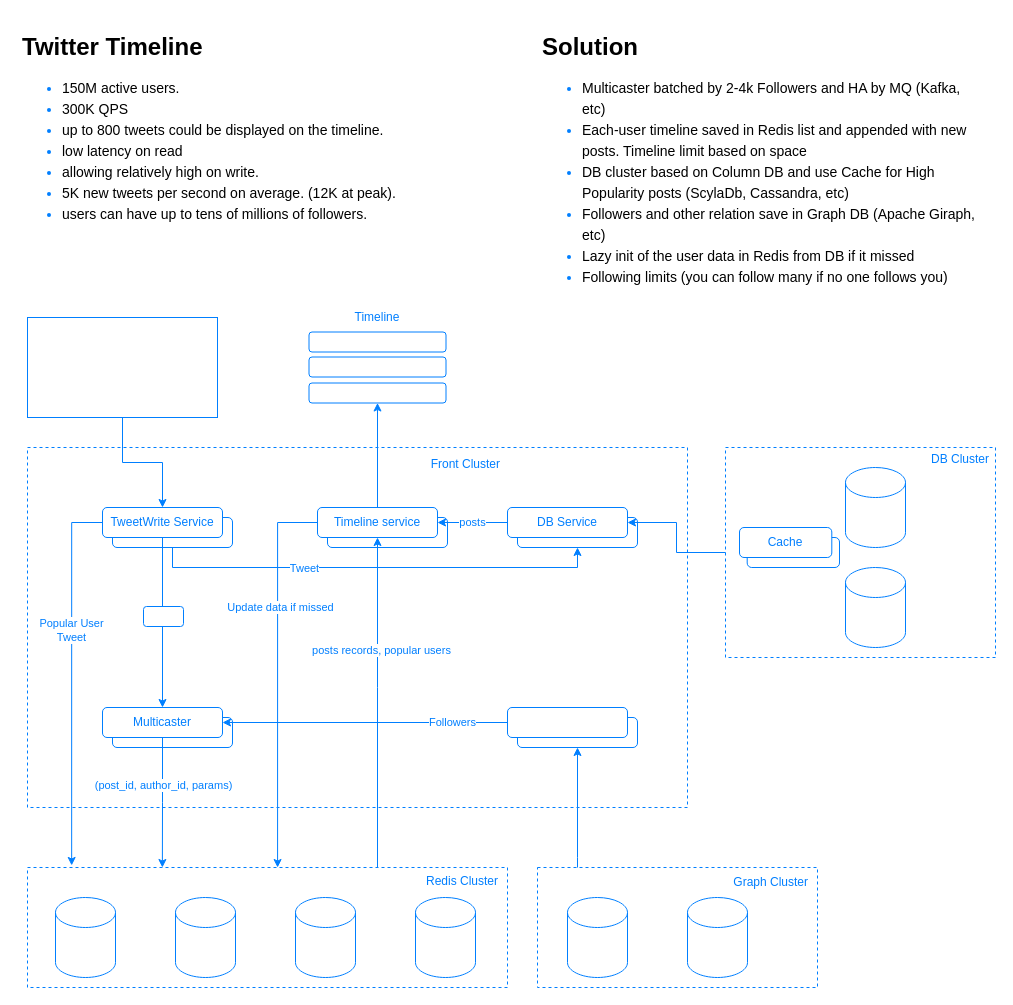
Some shapes in this 1013 by 1005 pixel diagram are drawn without their labels. The centre of each missing label's shape, as x and y in pixels:
"Graph Service" goes at (x=567, y=722).
"MQ" goes at (x=163, y=616).
"Tweet I have 20k followers. That's fucken awesome!" goes at (x=122, y=367).
